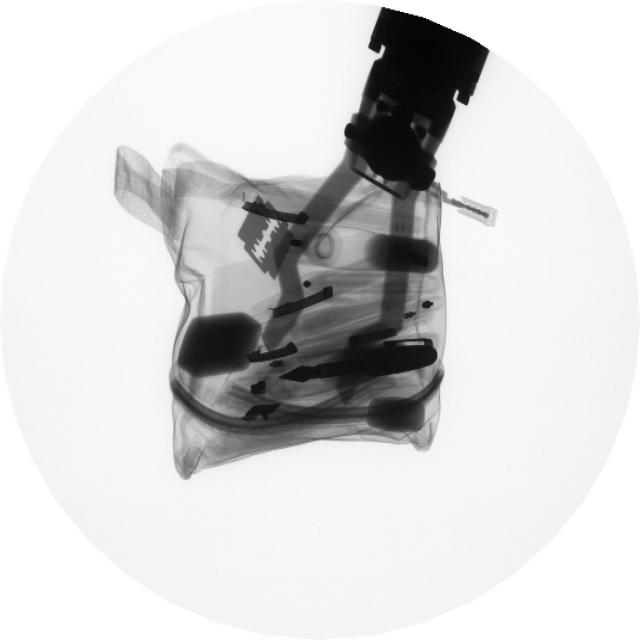BLADE: (237, 195, 312, 280)
